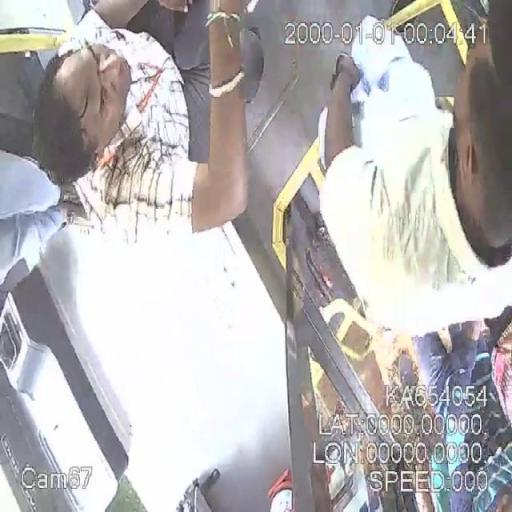persona: (314, 8, 512, 348), (30, 1, 252, 236), (410, 318, 512, 506)
